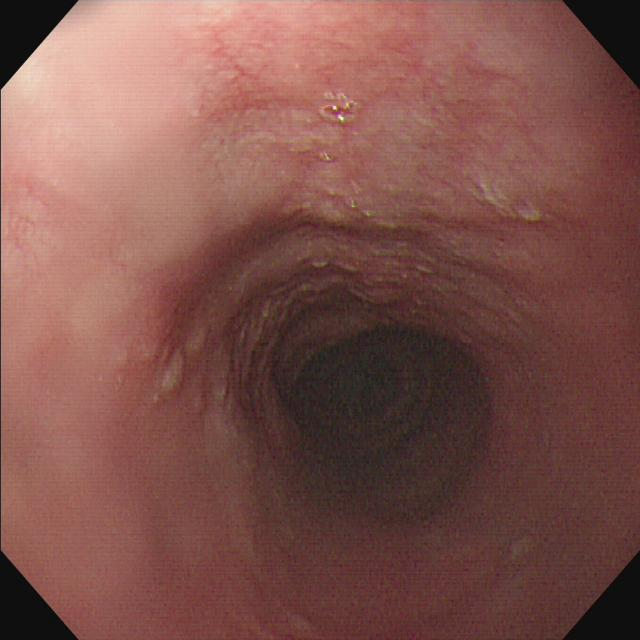E: (309, 319, 442, 457)
